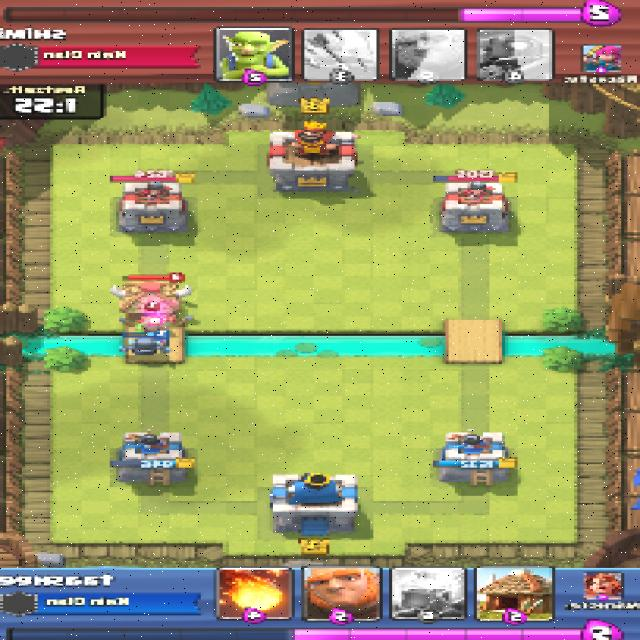Enemy-GoblinHut: (113, 283, 192, 323)
Enemy-SpearGoblin: (132, 319, 183, 335)
Player-MiniPEKKA: (121, 333, 174, 358)
